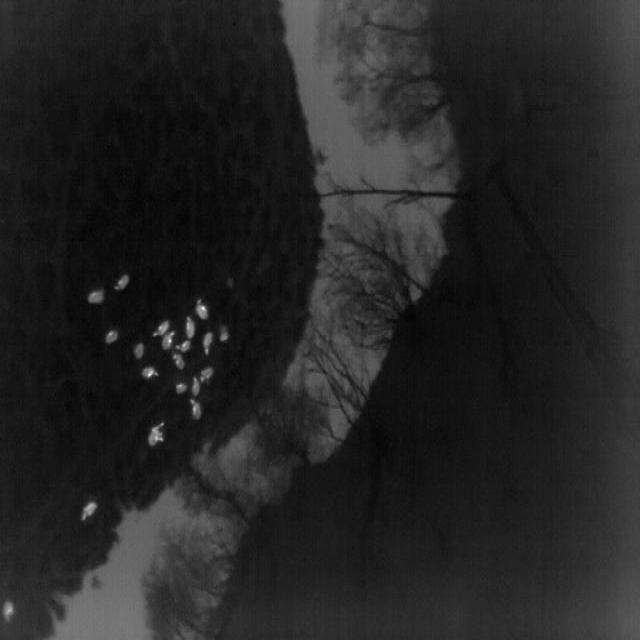deer: (148, 422, 164, 446), (80, 502, 98, 521), (1, 599, 15, 623), (189, 399, 203, 421), (152, 320, 170, 337), (161, 331, 176, 351), (184, 316, 196, 339), (202, 332, 213, 356), (87, 290, 105, 304), (196, 300, 208, 320), (114, 274, 129, 290), (172, 354, 186, 371), (200, 366, 214, 382), (142, 367, 159, 380), (175, 340, 192, 352), (104, 330, 118, 344), (218, 326, 230, 342), (192, 377, 201, 397), (134, 342, 144, 360), (176, 383, 187, 394)
